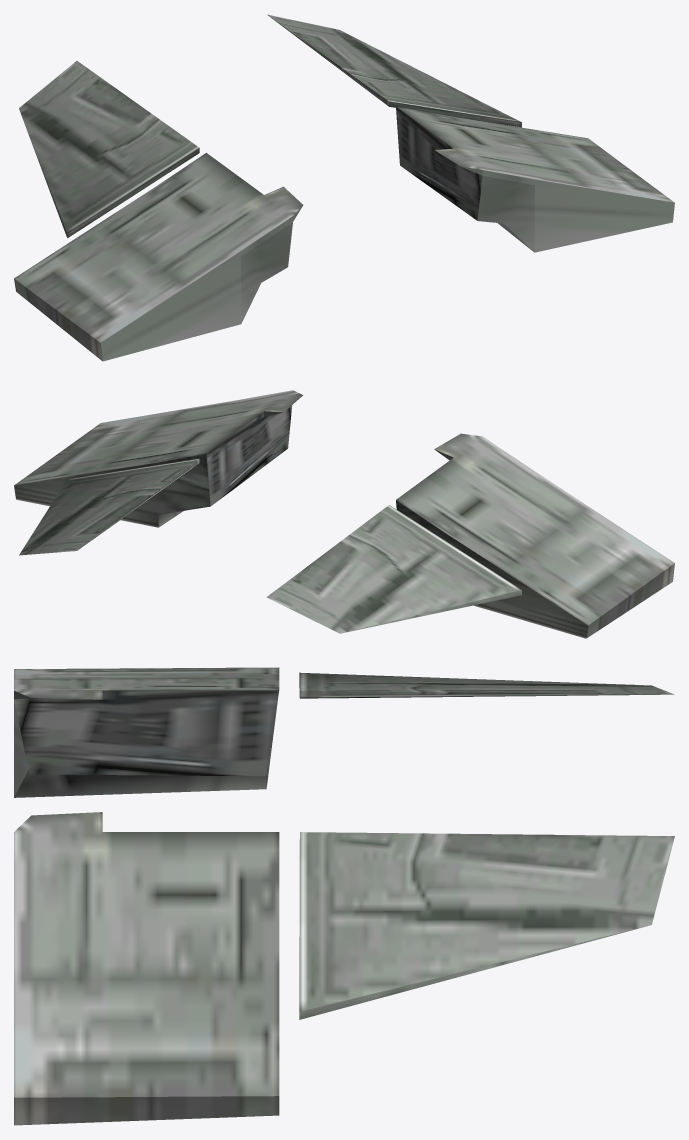
File: black_sun_fighter_medium_struct_s01_l4.fbx
3 views of the same model, one above another, from view 1: azimuth 30°, elevation 25°; view 2: azimuth 150°, elevation 25°; view 3: azimuth 270°, elevation 25° (orthographic). The views are drawn at different scales.
Visible parts, largest first — view 1: mesh_node; view 2: mesh_node; view 3: mesh_node.
Part boxes in pixels (<box>): mesh_node: <box>14,14,674,361</box>; mesh_node: <box>14,390,674,638</box>; mesh_node: <box>14,667,674,1125</box>.
Size of the model in its own units: 22.58 by 3.85 by 14.72.
